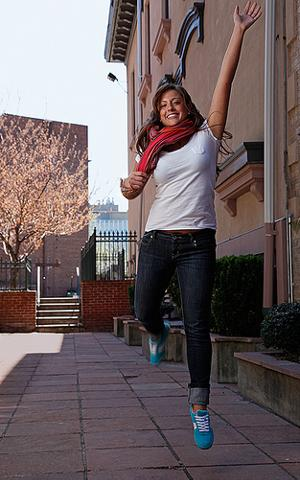person: (124, 4, 261, 452)
